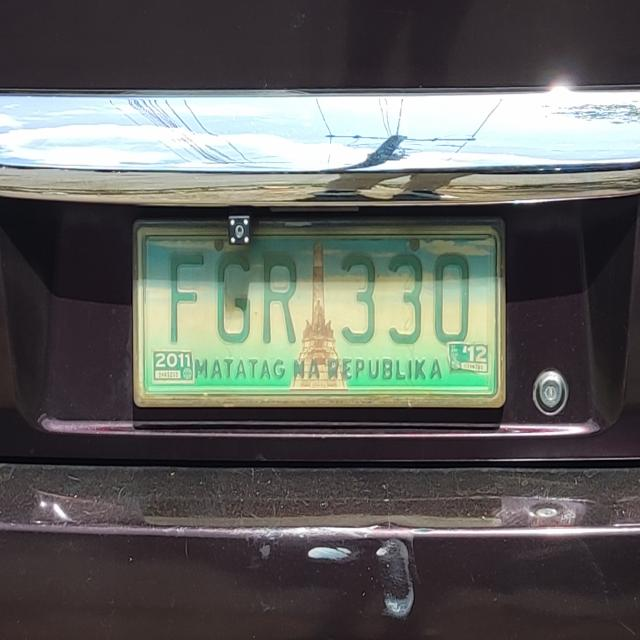plate: (129, 211, 508, 412)
